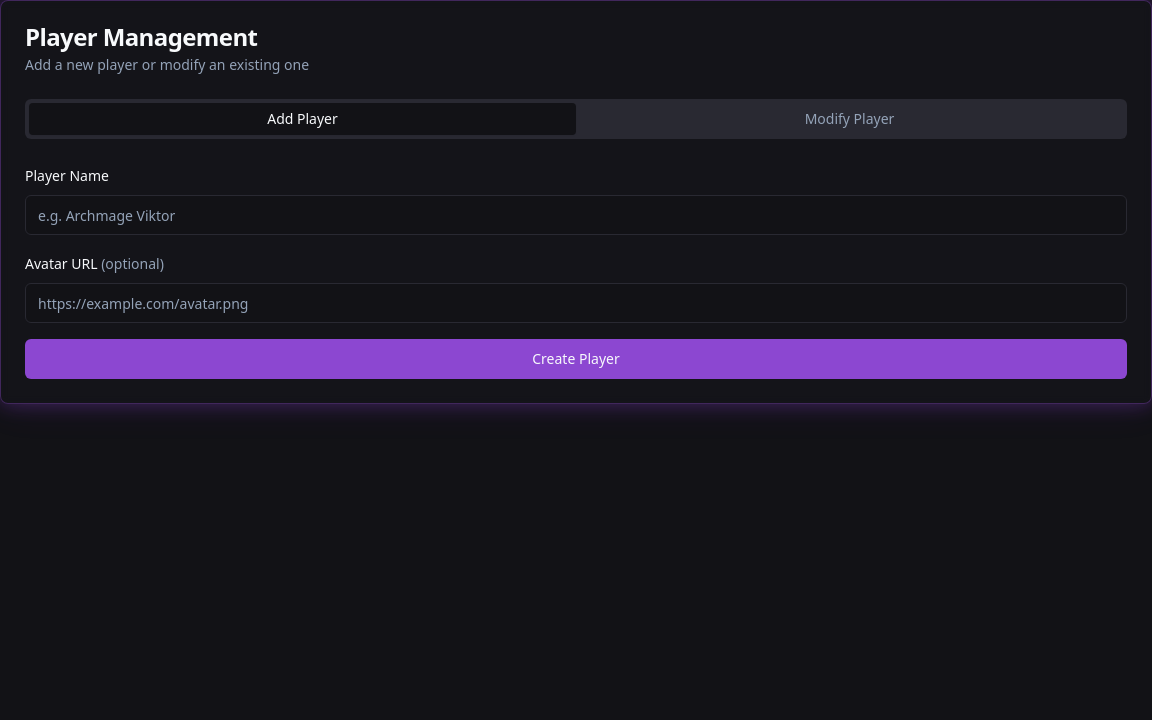
PlayerManagementForm › offers a modify mode that requires selecting an existing player
Later steps or results of the test are not shown.
Press the mouse on the tab "Modify Player": [850, 119] box 576,103 -> 1123,135
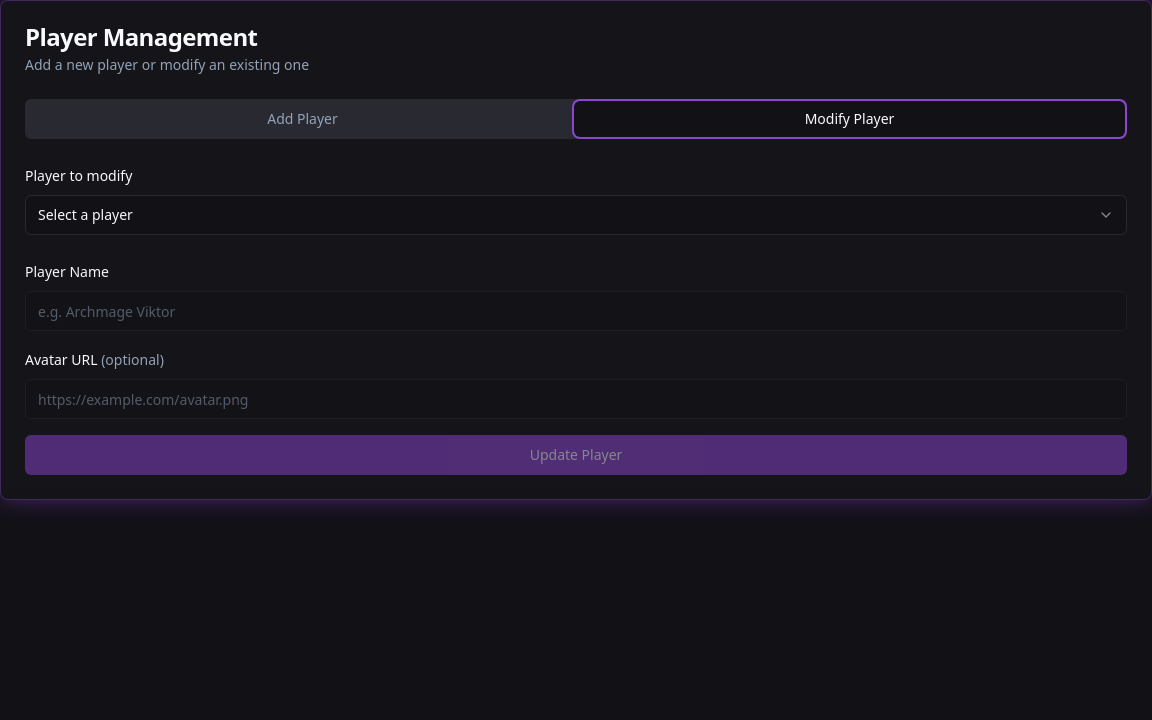
Expected: the text "Player to modify" is shown, 25,166 -> 132,185
Expected: the text "Select a player" is shown, 38,205 -> 133,225
Expected: the field labelled "Player Name" is disabled, 25,291 -> 1127,331
